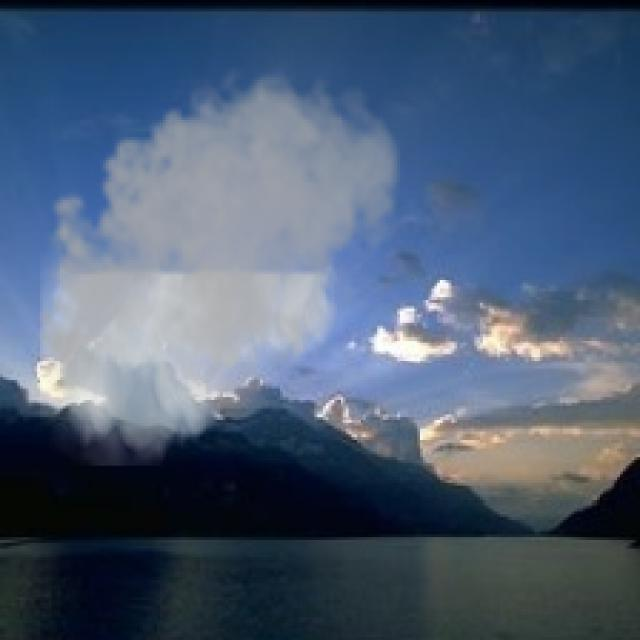smoke: (26, 57, 408, 466)
